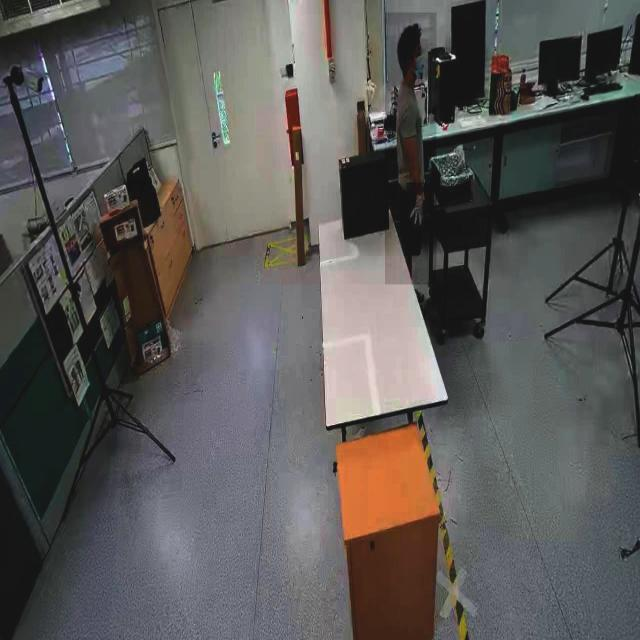face_mask: (408, 39, 428, 88)
hand_glove: (405, 182, 431, 228)
head_nohelmet: (396, 20, 422, 41)
person: (384, 12, 436, 286)
